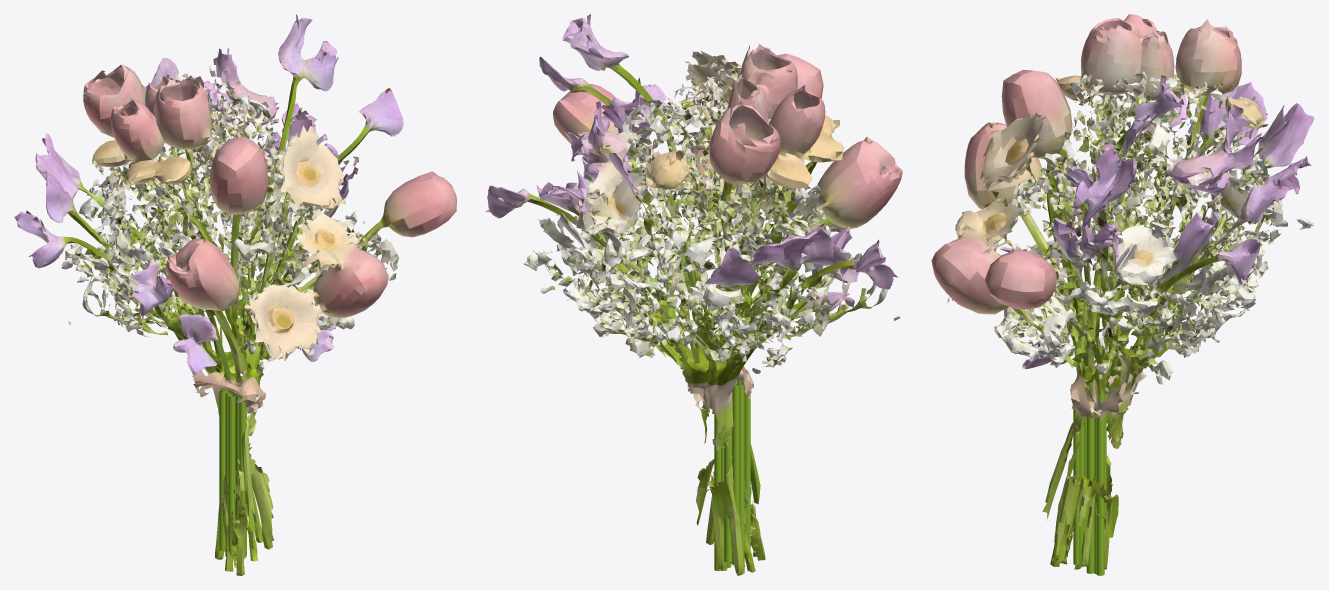
File: natural.glb
The picture shows the model from 3 angles, left to right: view 1: azimuth 30°, elevation 25°; view 2: azimuth 150°, elevation 25°; view 3: azimuth 270°, elevation 25°; orthographic projection. The views are drawn at different scales.
Bounding box in the file's own units: 1.33 × 1.75 × 1.1.
Materials: 1 (1 with a texture image).
